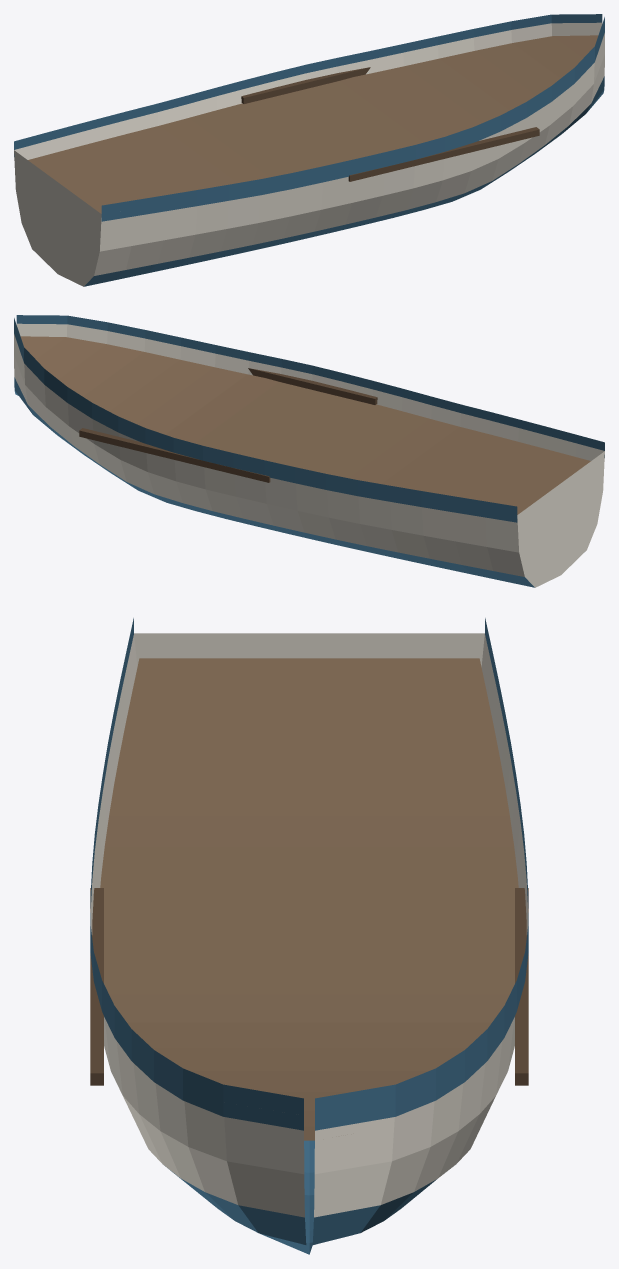
File: sandal-beyaz-mavi.glb
3 views of the same model, one above another, from view 1: azimuth 30°, elevation 25°; view 2: azimuth 150°, elevation 25°; view 3: azimuth 270°, elevation 25° (orthographic). The views are drawn at different scales.
Visible parts, largest first — view 1: ahsap, tekne_beyaz, tekne_mavi, ahsap_koyu; view 2: ahsap, tekne_beyaz, tekne_mavi, ahsap_koyu; view 3: ahsap, tekne_beyaz, tekne_mavi, ahsap_koyu.
Boxes of the visible parts, x1,y1,x2,y2 form: ahsap: (28, 35, 598, 213); tekne_beyaz: (14, 22, 604, 286); tekne_mavi: (14, 14, 604, 286); ahsap_koyu: (241, 67, 539, 181); ahsap: (20, 336, 590, 514); tekne_beyaz: (14, 323, 604, 587); tekne_mavi: (14, 315, 604, 587); ahsap_koyu: (79, 368, 377, 482); ahsap: (100, 658, 518, 1140); tekne_beyaz: (90, 633, 528, 1217); tekne_mavi: (90, 618, 528, 1254); ahsap_koyu: (90, 888, 528, 1085).
Size of the model in its own units: 4.6 by 1.01 by 1.6.
